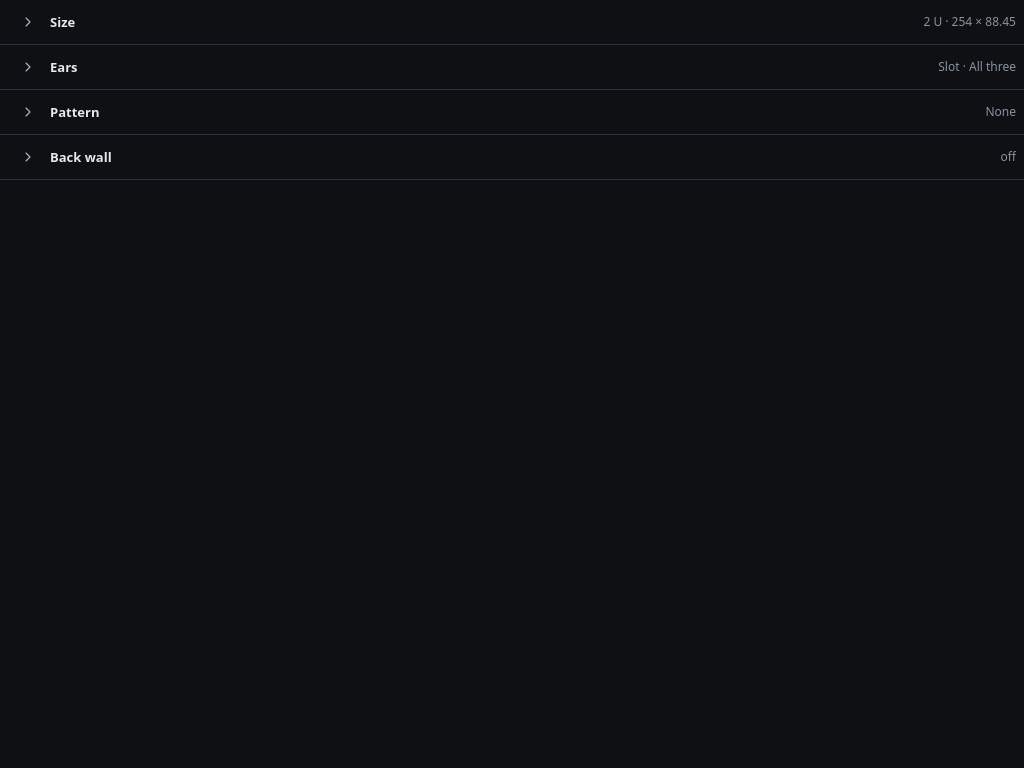
Test case: RackPanel: поля зависят от выбора › вид узора переключает видимые поля
Click the button named "Expand: Pattern".
click(28, 112)  # box [12, 96, 44, 128]
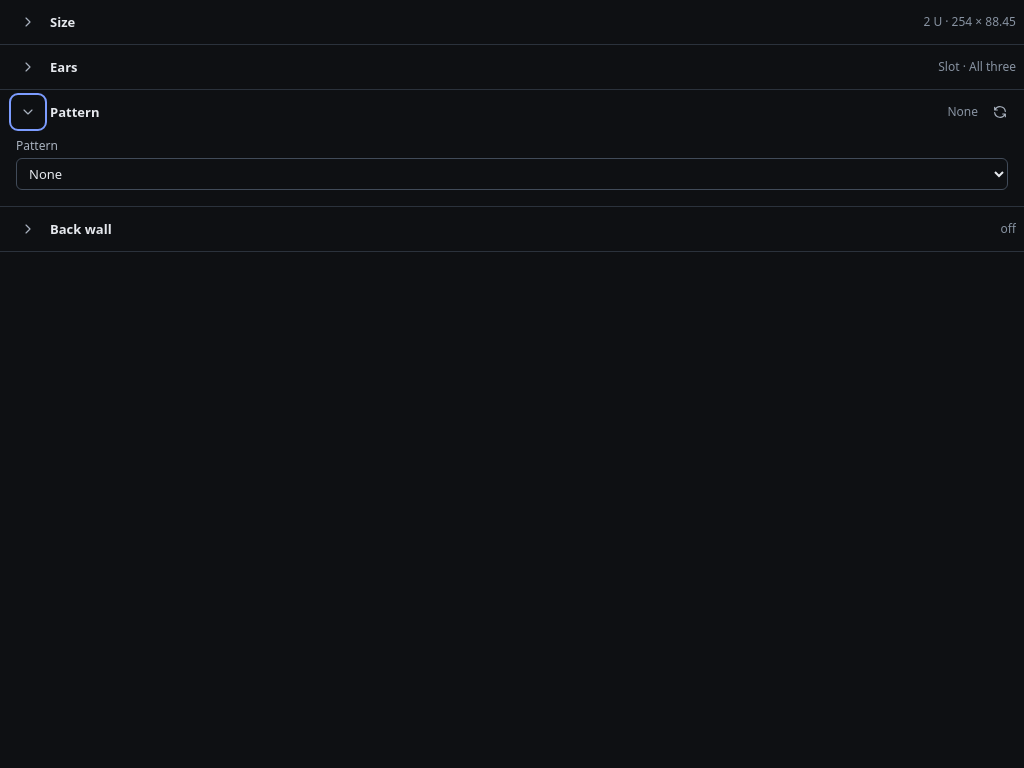
Expected: the field labelled "Margin" is not shown
Select "Skadis" in the dropdown labelled "Pattern" at [512, 174], box [16, 158, 1008, 190]
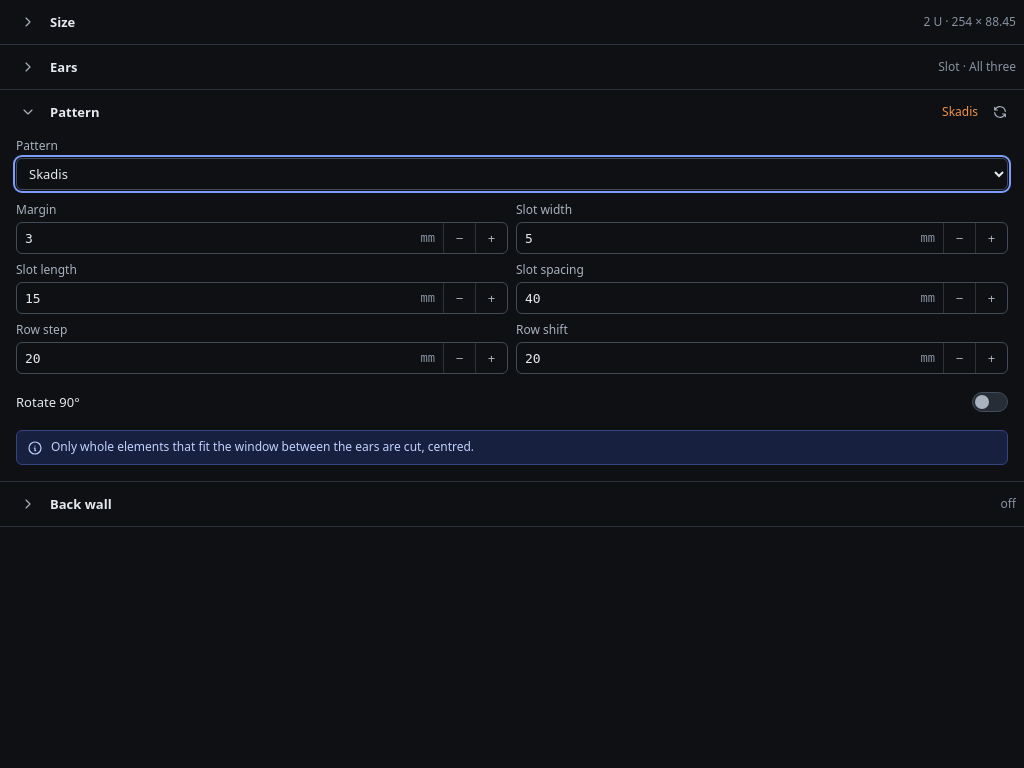
Expected: the field labelled "Slot width" is shown, [517, 223, 920, 253]
Expected: the field labelled "Row shift" is shown, [517, 343, 920, 373]
Select "Hexagons" in the dropdown labelled "Pattern" at [512, 174], box [16, 158, 1008, 190]
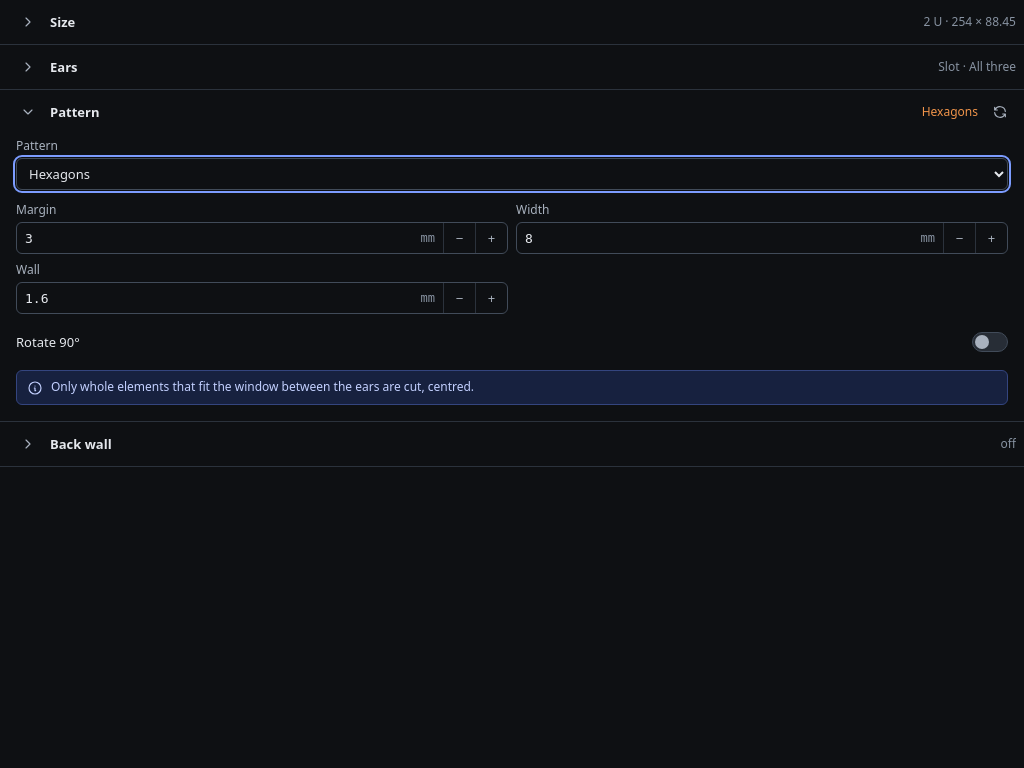
Expected: the field labelled "Wall" is shown, [17, 283, 420, 313]
Expected: the label labelled "Slot width" is gone
Select "Pills" in the dropdown labelled "Pattern" at [512, 174], box [16, 158, 1008, 190]
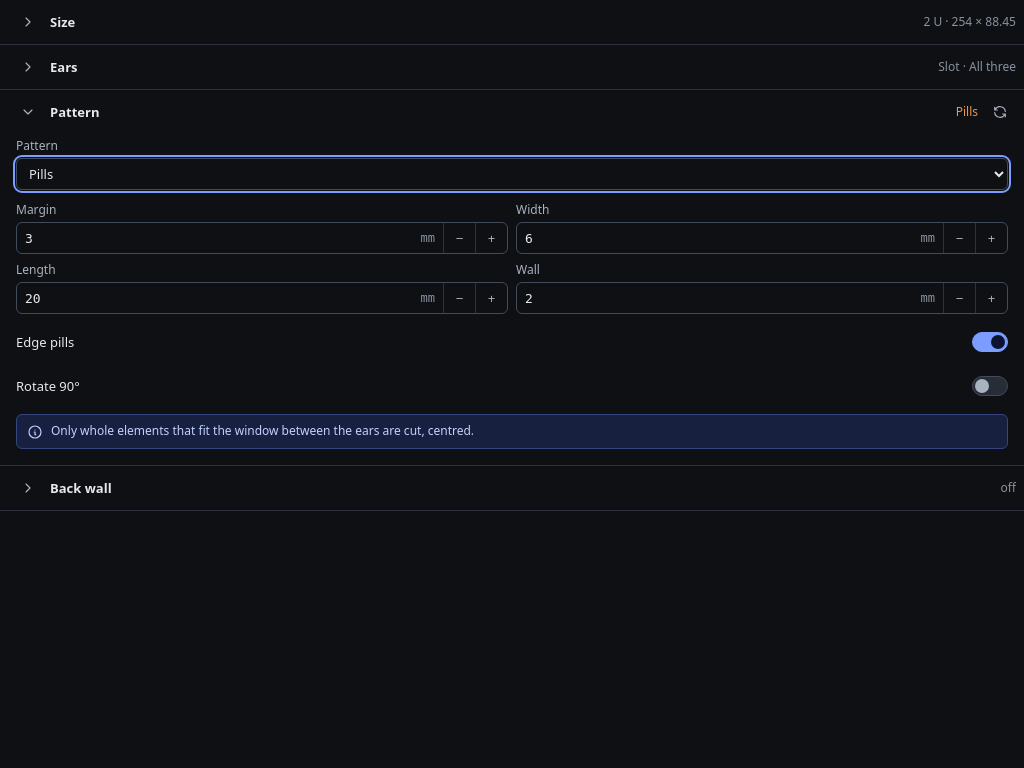
Expected: the switch named "Edge pills" in the row of "Edge pills" is shown, [972, 332, 1008, 352]
Select "Opening" in the dropdown labelled "Pattern" at [512, 174], box [16, 158, 1008, 190]
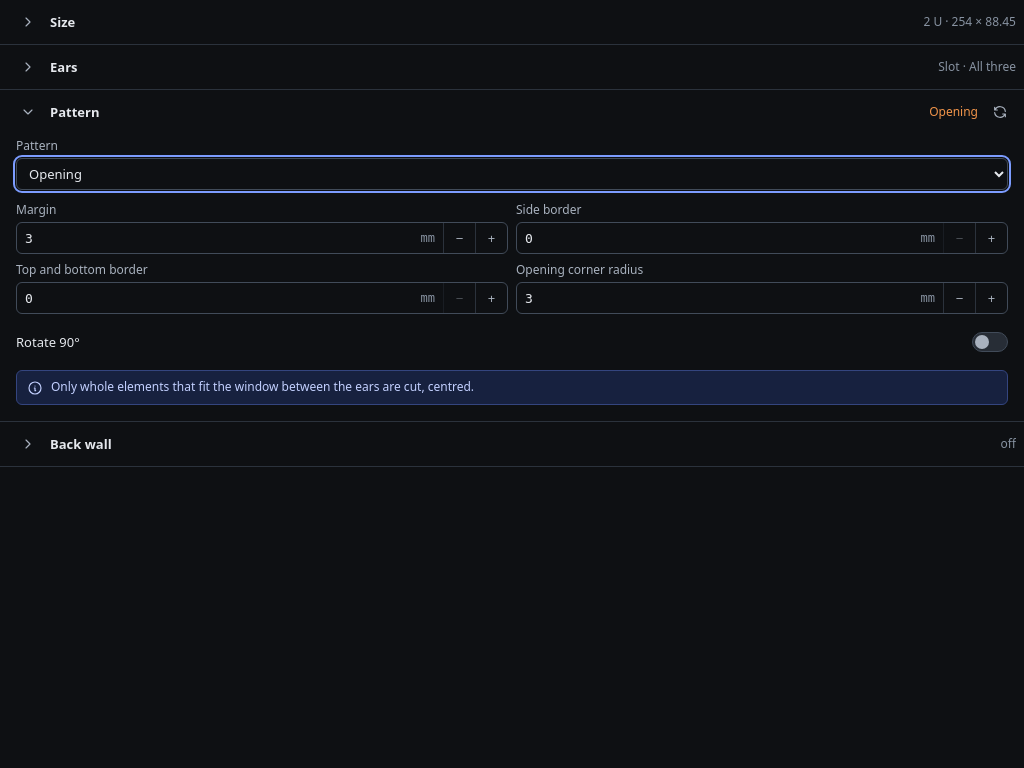
Expected: the field labelled "Side border" is shown, [517, 223, 920, 253]
Expected: the text "Edge pills" is gone
